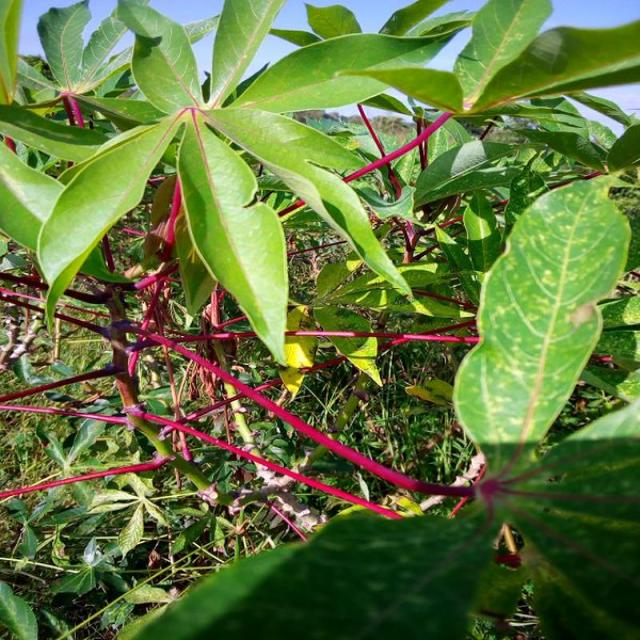cassava leaf: (119, 505, 498, 638), (452, 176, 630, 451), (174, 107, 289, 367)
